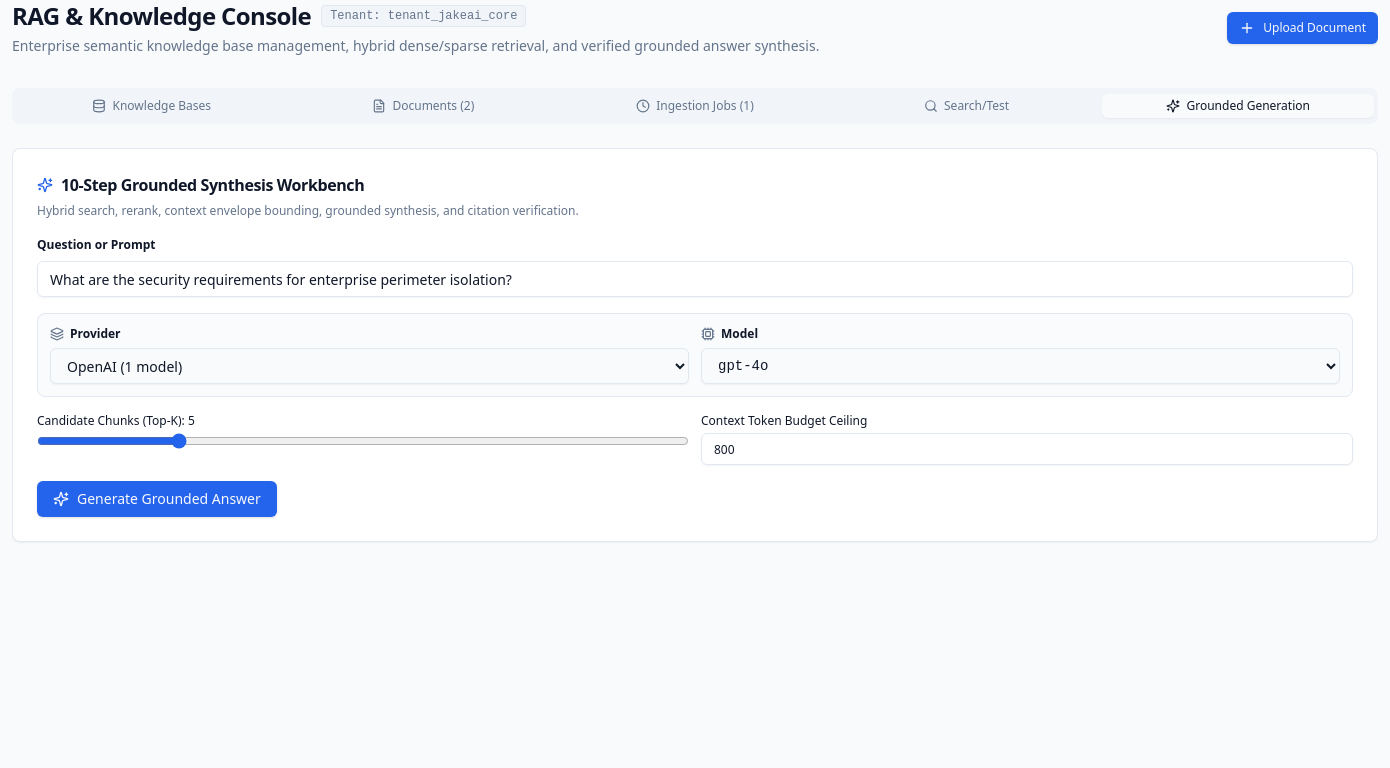
it: FE-05 RAG Console Integration Suite › handles epistemic abstention without falsely reporting grounded synthesis
Step 1. Replace the text in the field with placeholder "Ask a question requiring grounded tenant evidence..." with "What is the secret Martian alien transmission?" → (695, 279), box [37,261,1353,297]
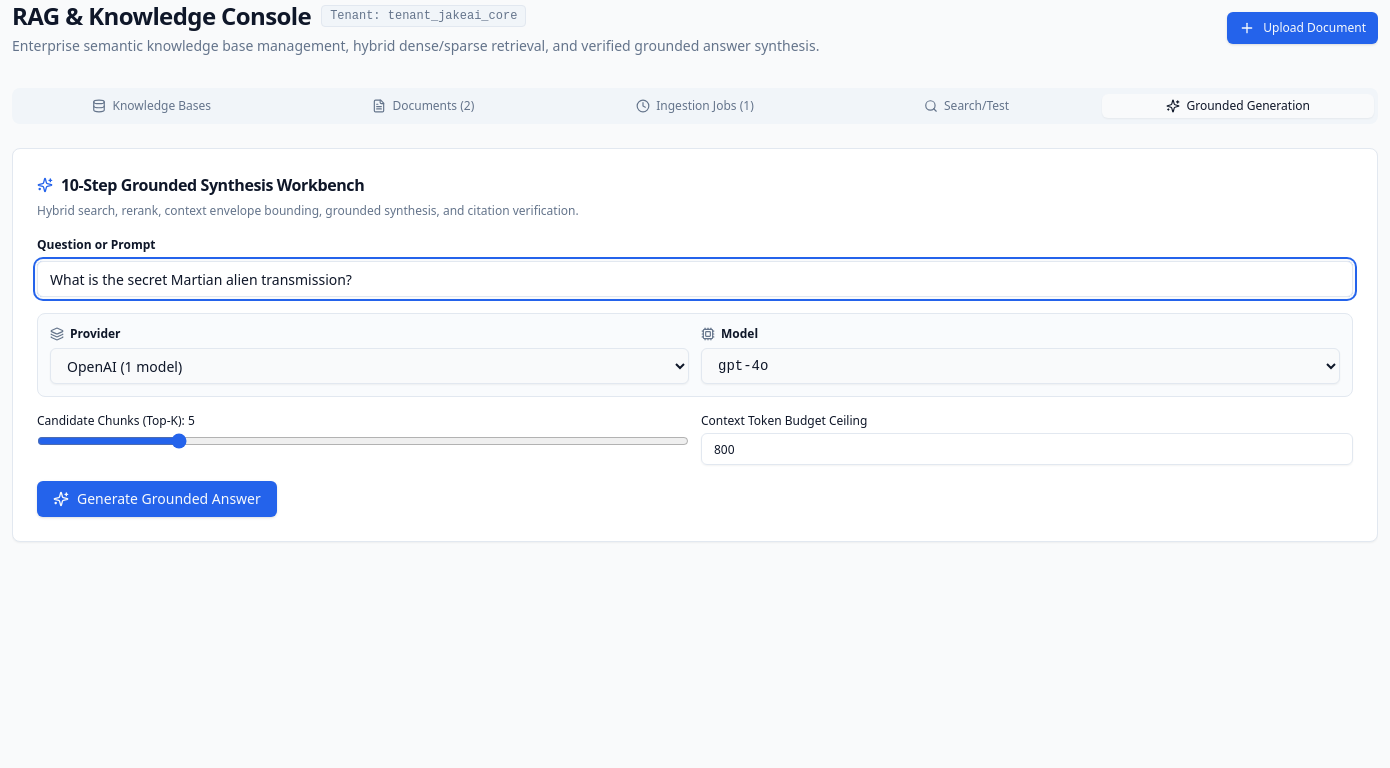
Step 2. Click the button "Generate Grounded Answer" → (157, 499), box [37,481,277,517]
(page scrolled)
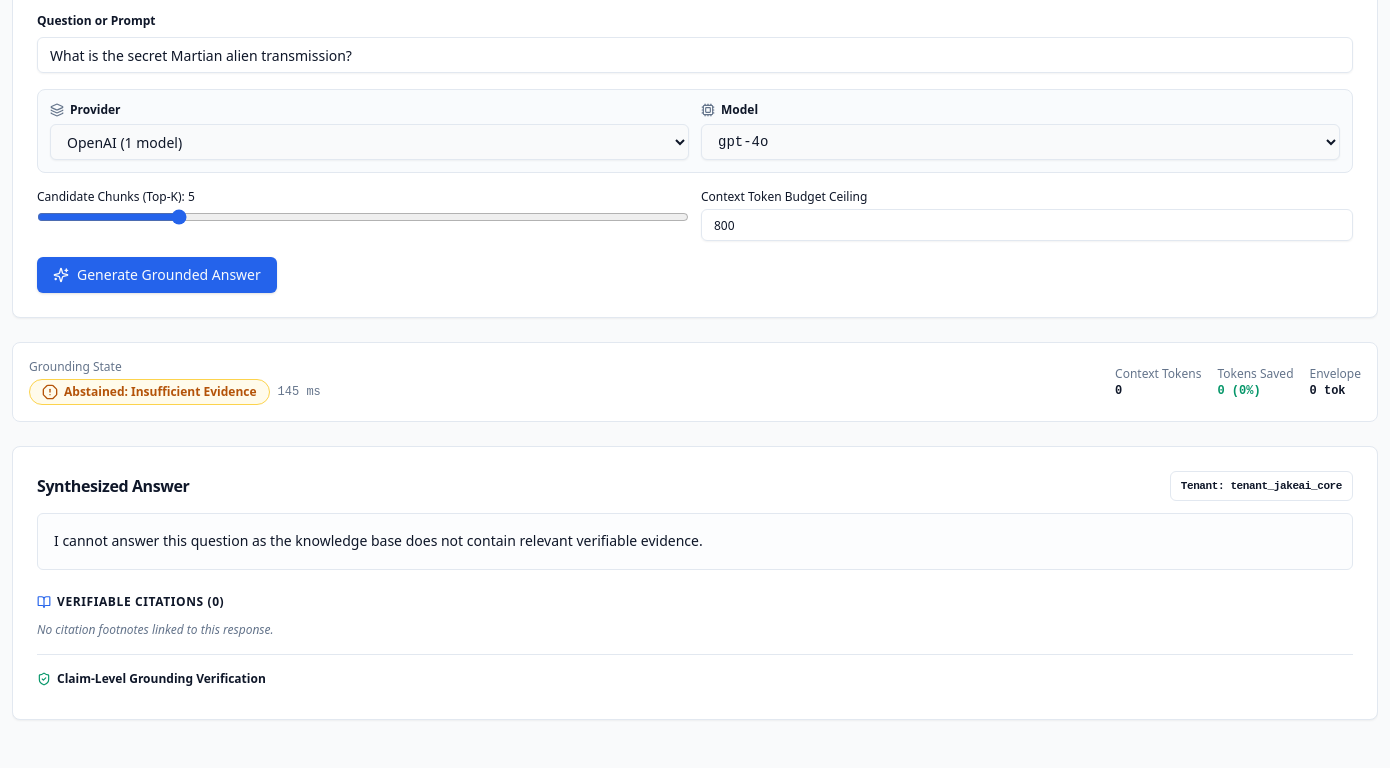
Result: the text "Abstained: Insufficient Evidence" is shown at [64,384,257,400]
Result: the text "I cannot answer this question as the knowledge base does not contain relevant verifiable evidence" is shown at [54,531,703,550]
